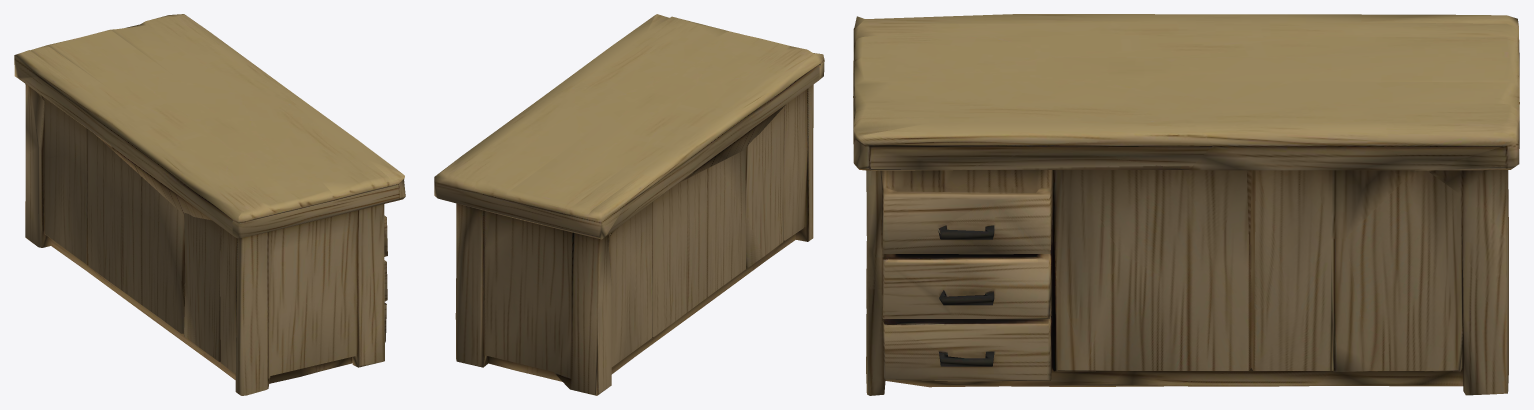
Rendered from cabinet.fbx.
3 views of the same model, side by side, from view 1: azimuth 30°, elevation 25°; view 2: azimuth 150°, elevation 25°; view 3: azimuth 270°, elevation 25° (orthographic). The views are drawn at different scales.
Parts seen in each view (by area): view 1: tripo_node_3a2ca339; view 2: tripo_node_3a2ca339; view 3: tripo_node_3a2ca339.
Part boxes in pixels (x1,y1,x2,y2): tripo_node_3a2ca339: (14,14,405,395); tripo_node_3a2ca339: (434,14,824,395); tripo_node_3a2ca339: (853,14,1519,395).
Bounding box in the file's own units: 0.4278 × 0.4476 × 0.9812.
